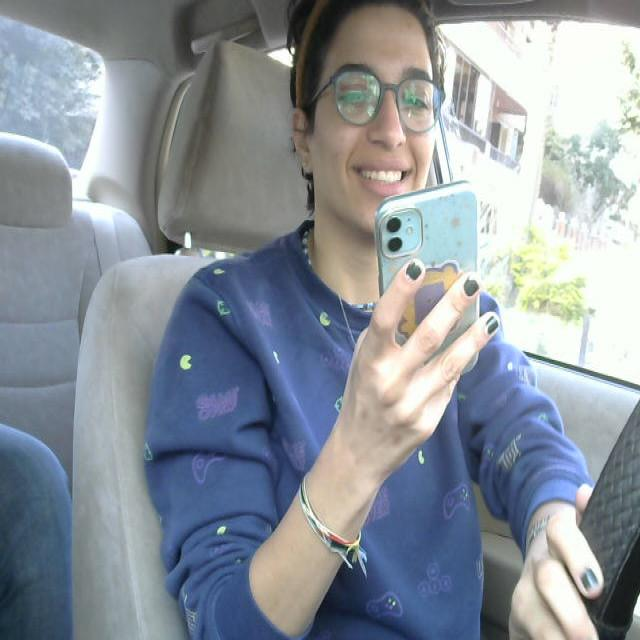mobile use: (374, 180, 486, 374)
